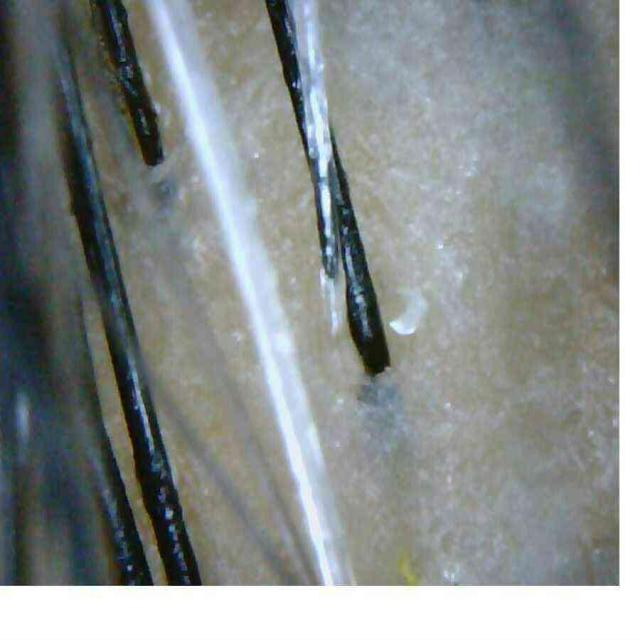d: (389, 299, 428, 336)
